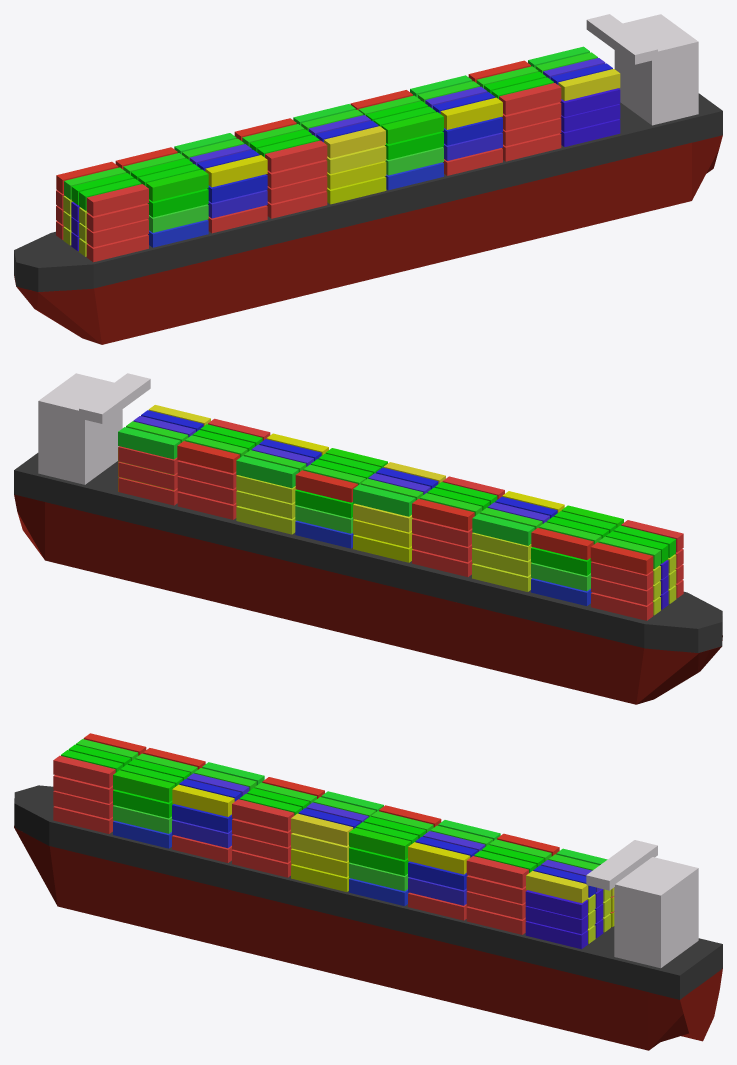
File: ContainerShip5.gltf
The picture shows the model from 3 angles, top to bottom: view 1: azimuth 30°, elevation 25°; view 2: azimuth 150°, elevation 25°; view 3: azimuth 330°, elevation 25°; orthographic projection.
Parts seen in each view (by area): view 1: Cube.003; view 2: Cube.003; view 3: Cube.003.
Part boxes in pixels (left/top/right/bottom): Cube.003: left=14, top=14, right=722, bottom=344; Cube.003: left=14, top=373, right=722, bottom=704; Cube.003: left=14, top=733, right=722, bottom=1050.
Bounding box in the file's own units: 295 × 66.77 × 36.
